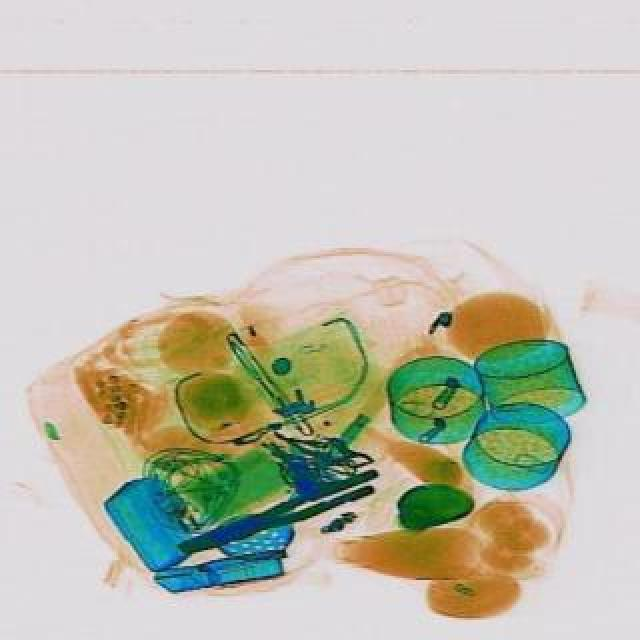wrench: (172, 462, 382, 562)
